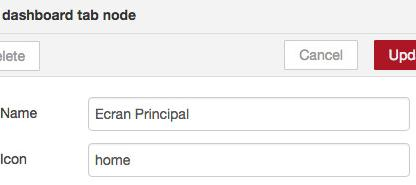button: (283, 40, 361, 71)
field: (85, 141, 414, 178), (87, 96, 413, 131)
